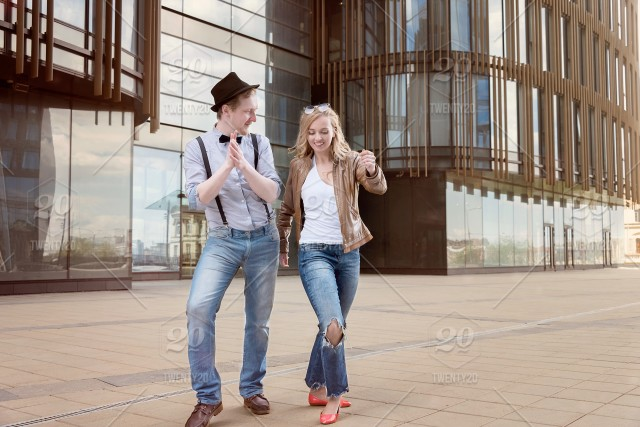Person: (179, 70, 281, 426), (279, 100, 390, 427)
